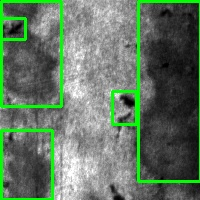inclusion: (112, 91, 136, 124), (1, 19, 25, 39)
patches: (138, 1, 200, 181), (1, 1, 61, 106), (1, 130, 52, 199)
